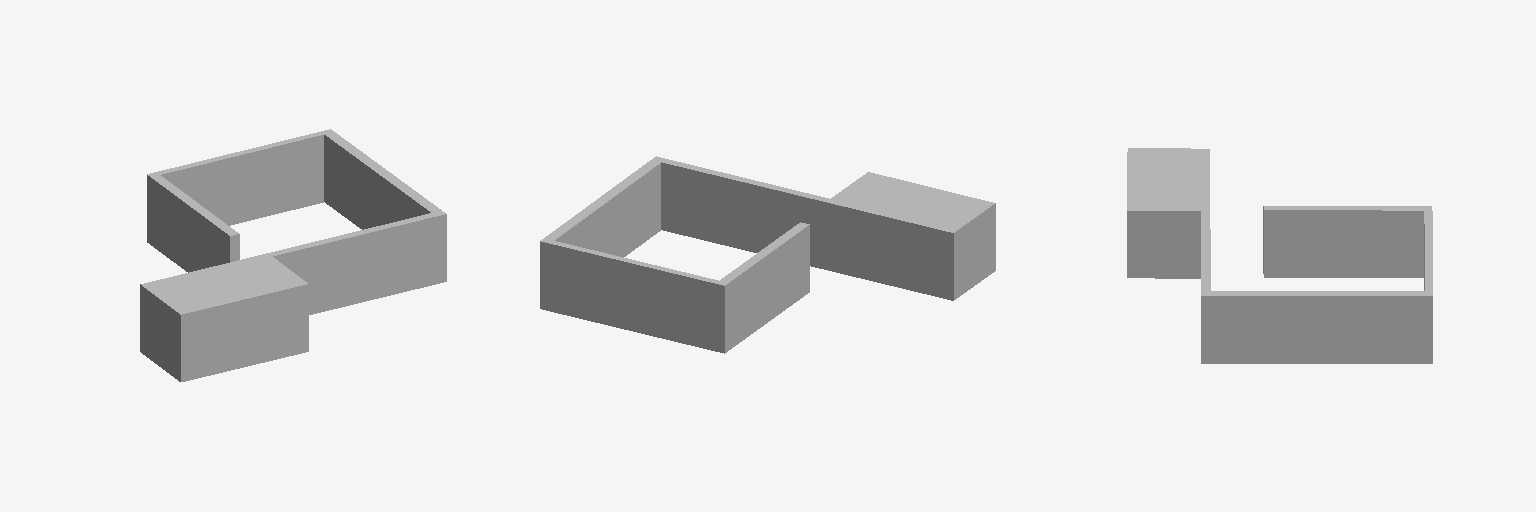
The model's file is bright_111.obj.
3 renders of one model, left to right at view 1: azimuth 30°, elevation 25°; view 2: azimuth 150°, elevation 25°; view 3: azimuth 270°, elevation 25°, orthographic.
Visible parts, largest first — view 1: polySurface10; view 2: polySurface10; view 3: polySurface10.
Part boxes in pixels (x1,y1,x2,y2): polySurface10: (140,129,446,381); polySurface10: (540,156,995,353); polySurface10: (1127,148,1432,363).
Size of the model in its own units: 99.3 by 21.25 by 87.03.